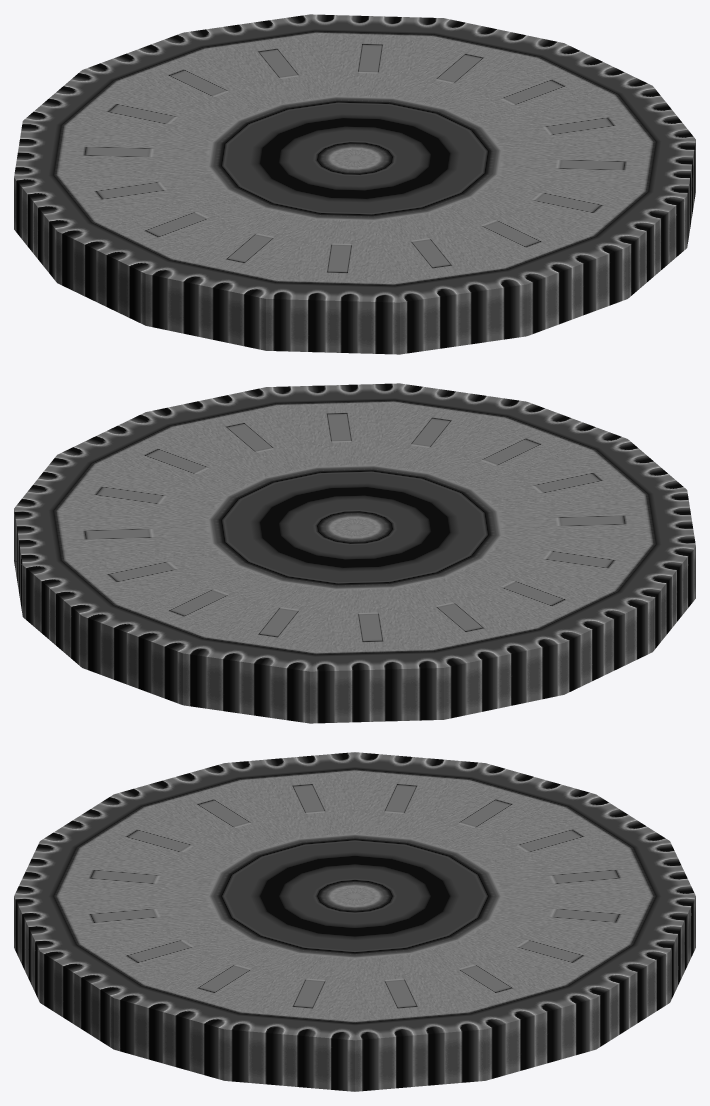
The model's file is clock_course-test_cylinder.glb.
3 views of the same model, one above another, from view 1: azimuth 30°, elevation 25°; view 2: azimuth 150°, elevation 25°; view 3: azimuth 270°, elevation 25° (orthographic).
Visible parts, largest first — view 1: test_cylinder; view 2: test_cylinder; view 3: test_cylinder.
Boxes of the visible parts, <box> form: test_cylinder: <box>14,14,695,354</box>; test_cylinder: <box>14,383,695,723</box>; test_cylinder: <box>14,752,695,1091</box>.
Bounding box in the file's own units: 37.5 × 3.12 × 37.5.
Materials: 1 (1 with a texture image).
